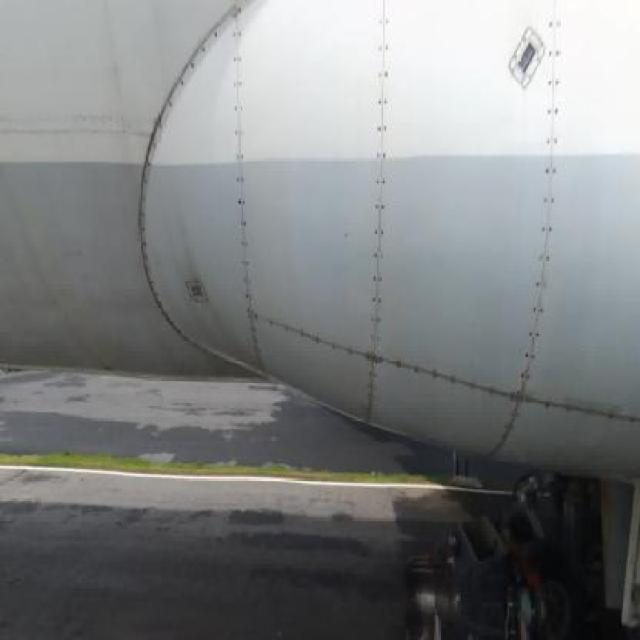Scartch: (537, 445, 640, 538)
